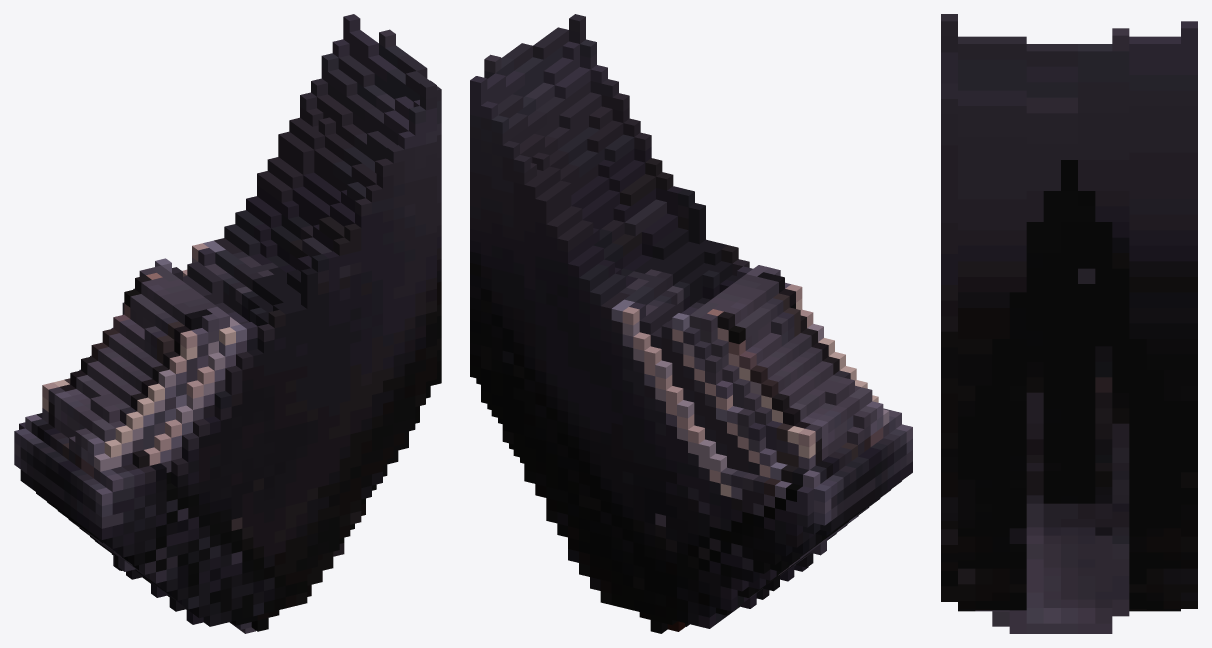
Rendered from akm_voxel_mag.obj.
The picture shows the model from 3 angles, left to right: view 1: azimuth 30°, elevation 25°; view 2: azimuth 150°, elevation 25°; view 3: azimuth 270°, elevation 25°; orthographic projection. The views are drawn at different scales.
Bounding box in the file's own units: 0.165 × 0.23 × 0.075.
